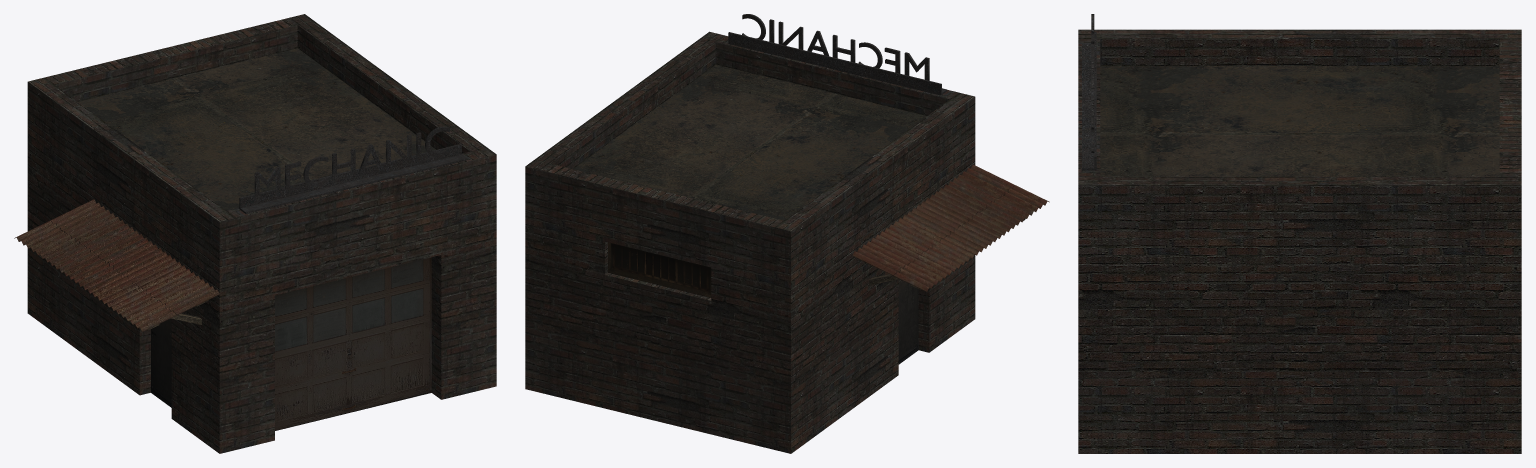
Rendered from garage_hm_1.glb.
The picture shows the model from 3 angles, left to right: view 1: azimuth 30°, elevation 25°; view 2: azimuth 150°, elevation 25°; view 3: azimuth 270°, elevation 25°; orthographic projection. The views are drawn at different scales.
Visible parts, largest first — view 1: garage_hm_1; view 2: garage_hm_1; view 3: garage_hm_1.
Boxes of the visible parts, x1,y1,x2,y2 form: garage_hm_1: (14,14,496,453); garage_hm_1: (525,14,1049,453); garage_hm_1: (1078,14,1521,453).
Bounding box in the file's own units: 6.4 × 4.59 × 6.
Materials: 9 (9 with a texture image).
